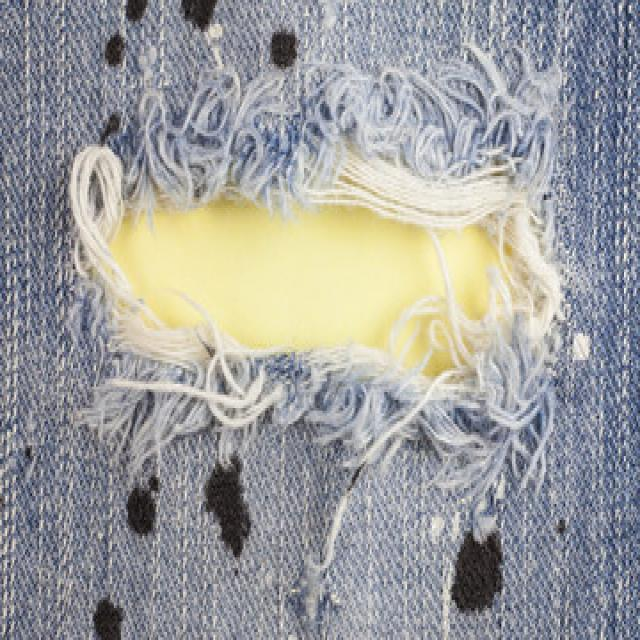Hole: (69, 46, 564, 506), (284, 494, 354, 638)
Stain: (205, 457, 251, 558), (452, 533, 503, 612), (126, 477, 159, 537), (93, 600, 123, 640), (182, 0, 217, 30), (271, 31, 297, 68), (104, 33, 125, 65), (99, 112, 120, 144), (126, 0, 148, 20), (556, 519, 571, 536), (234, 569, 239, 578)
